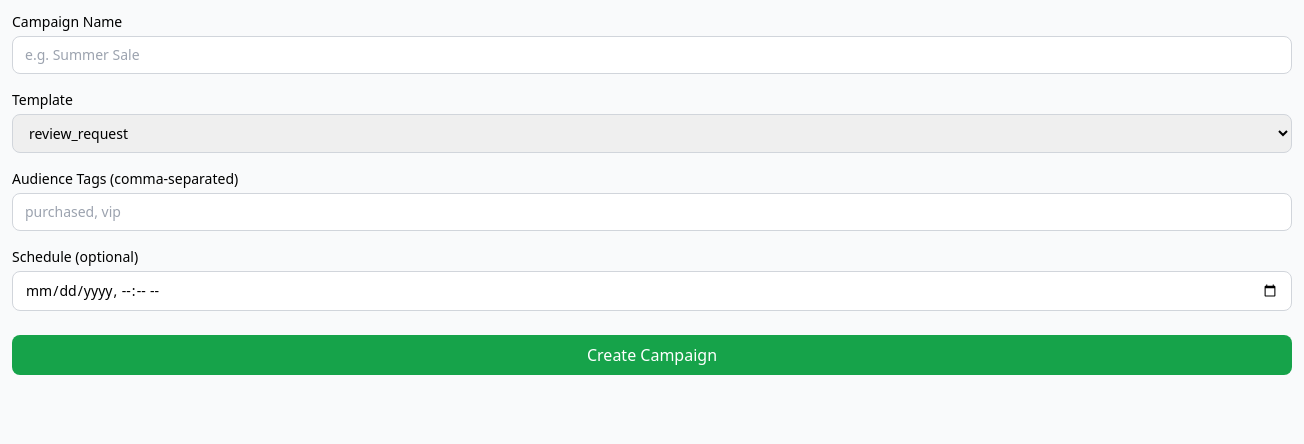
CampaignForm › shows validation error when name is empty and form is submitted
Click the button "Create Campaign". click: (652, 355)
box: [12, 335, 1292, 375]
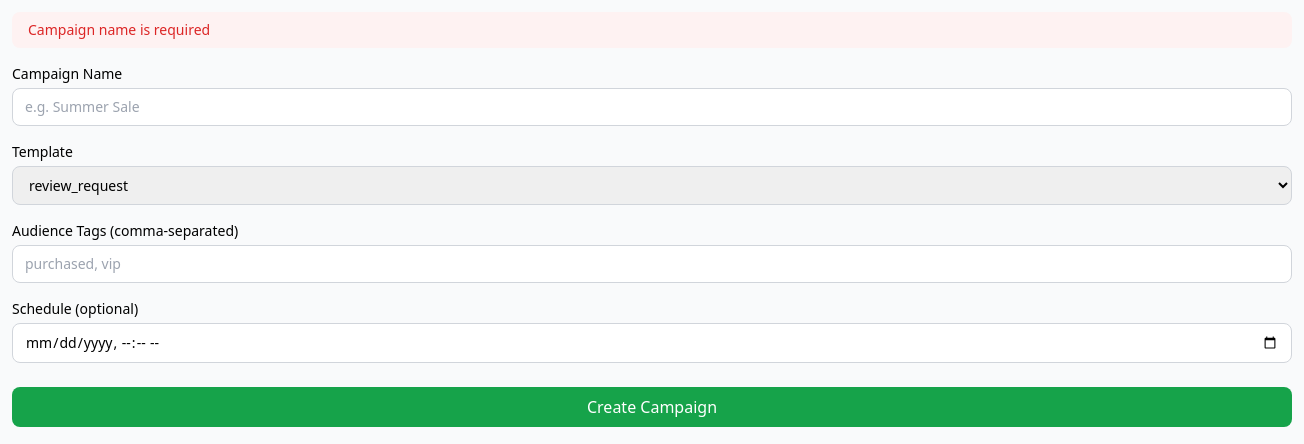
Expected: the message shows "name is required", [28, 20, 210, 39]
